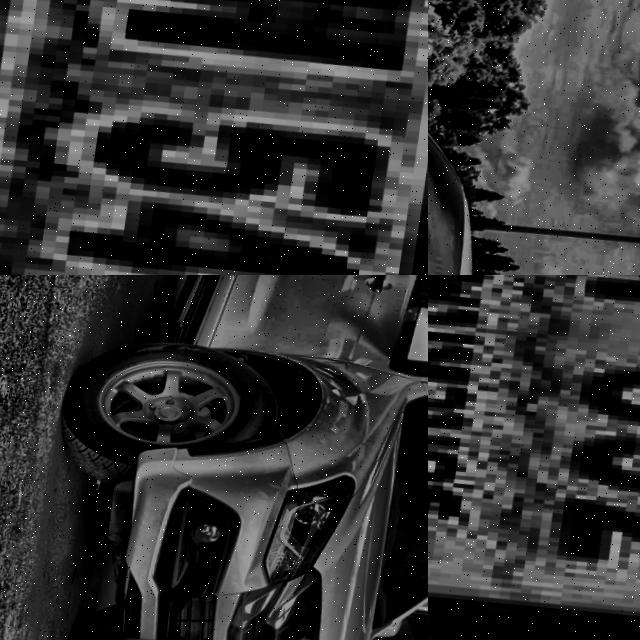license-plate: (0, 0, 428, 275), (428, 275, 640, 640)
